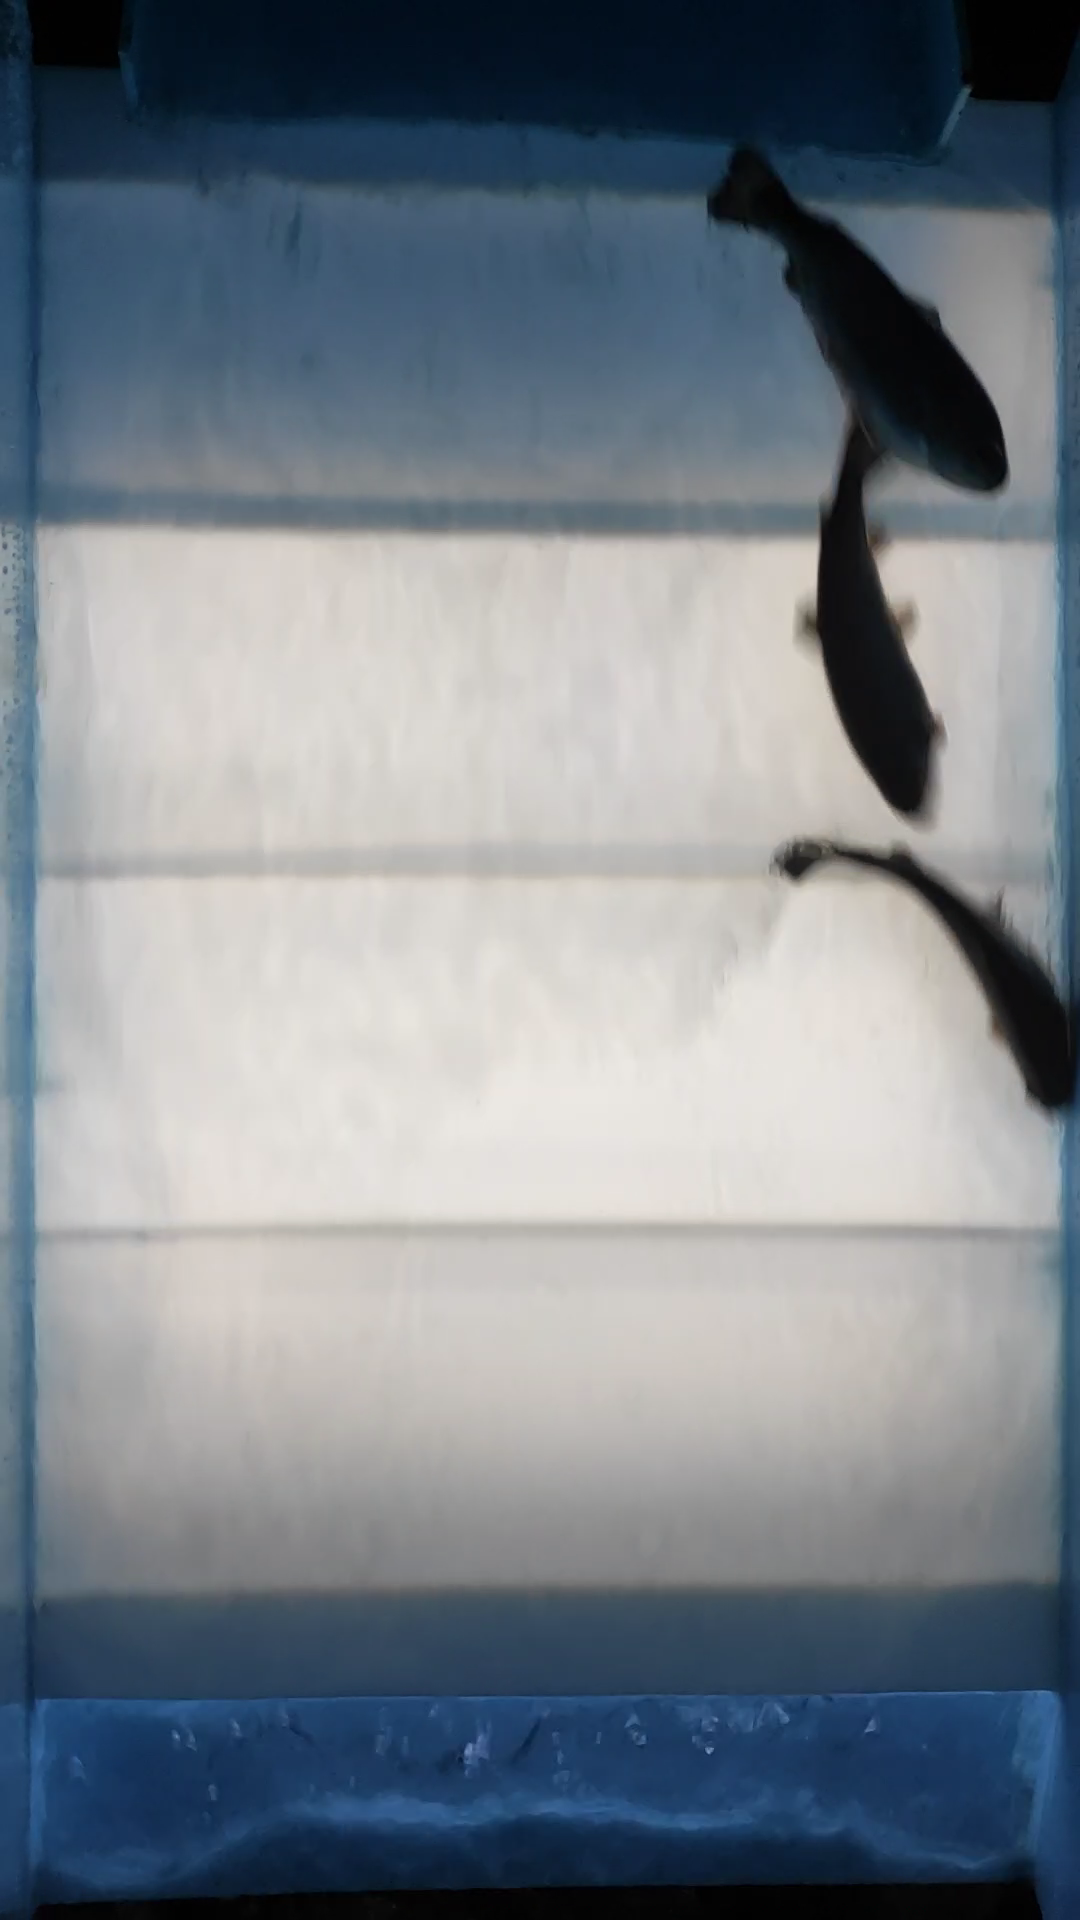fish: (704, 142, 1019, 503), (763, 833, 1080, 1129), (804, 403, 942, 821)
